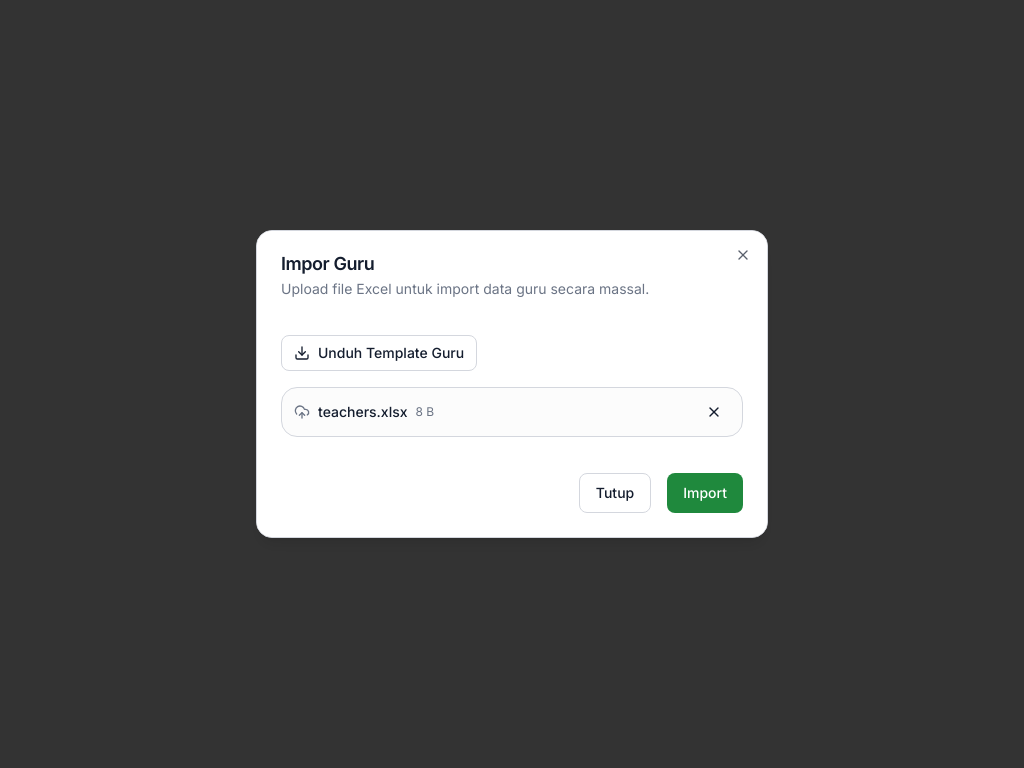
Test case: ImportDialog › surfaces row-level validation errors without persisting
What coordinates should you click on to do the following:
click the button "Import"
I would click on:
 (705, 493)
Its box is left=667, top=473, right=743, bottom=513.
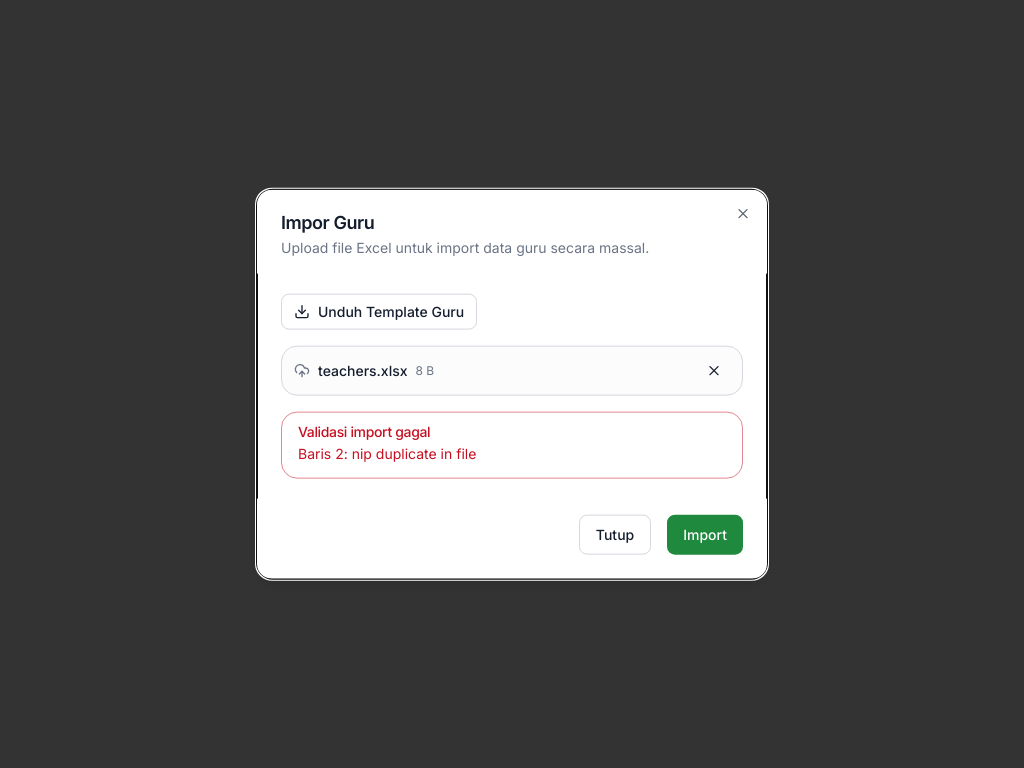
expect the heading "Validasi import gagal" is shown: met, box left=298, top=423, right=430, bottom=440
expect the text "Baris 2: nip duplicate in file" is shown: met, box left=298, top=445, right=476, bottom=462
